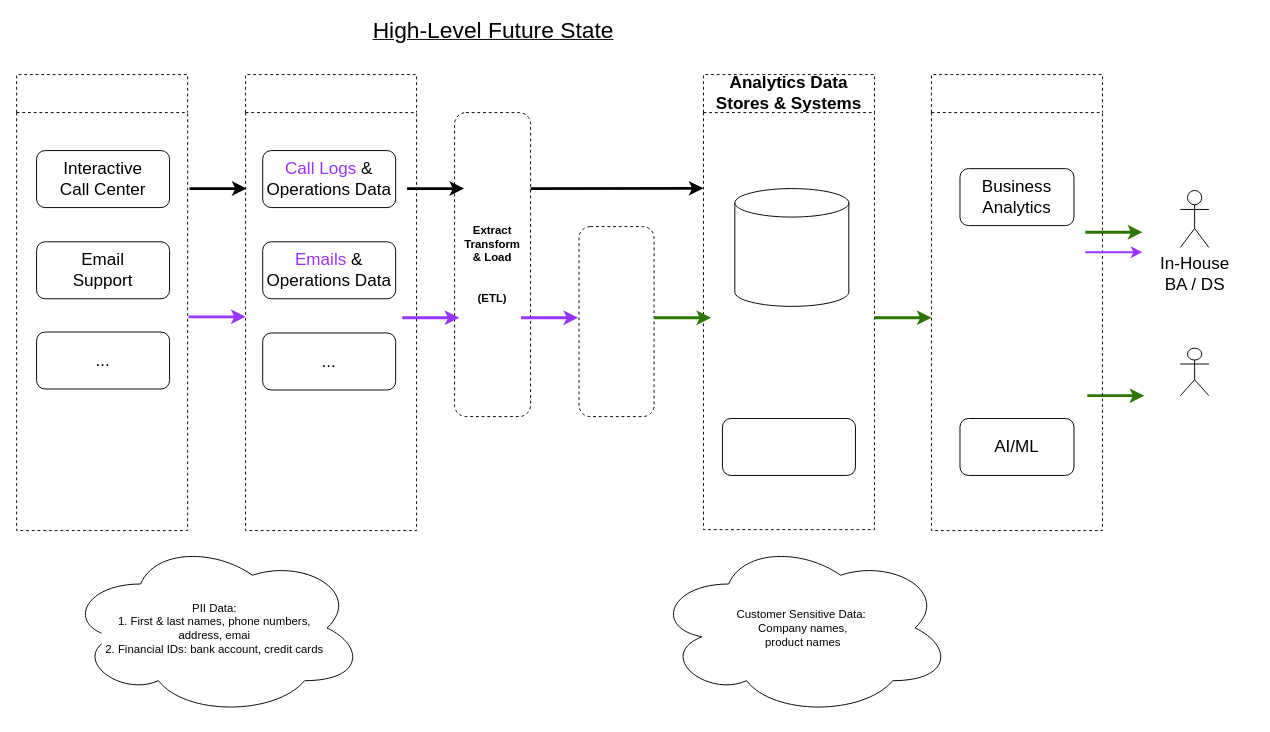
Image size: 1270x732. Some labels were removed from this diagram. Here are the shapes that lost their labels. From the top down, the box of each, then its label:
(734, 188, 849, 306): Scrubbed & Ops Data
(16, 74, 188, 531): Operational Systems
(245, 74, 417, 531): Data Sets
(578, 226, 654, 417): PII / Sensitive Data Scrub
(931, 74, 1102, 531): Analytic & AI/ML Processes
(1179, 347, 1209, 396): 3rd Party BA / DS
(722, 418, 855, 475): AI/ML Tools & Infra.
